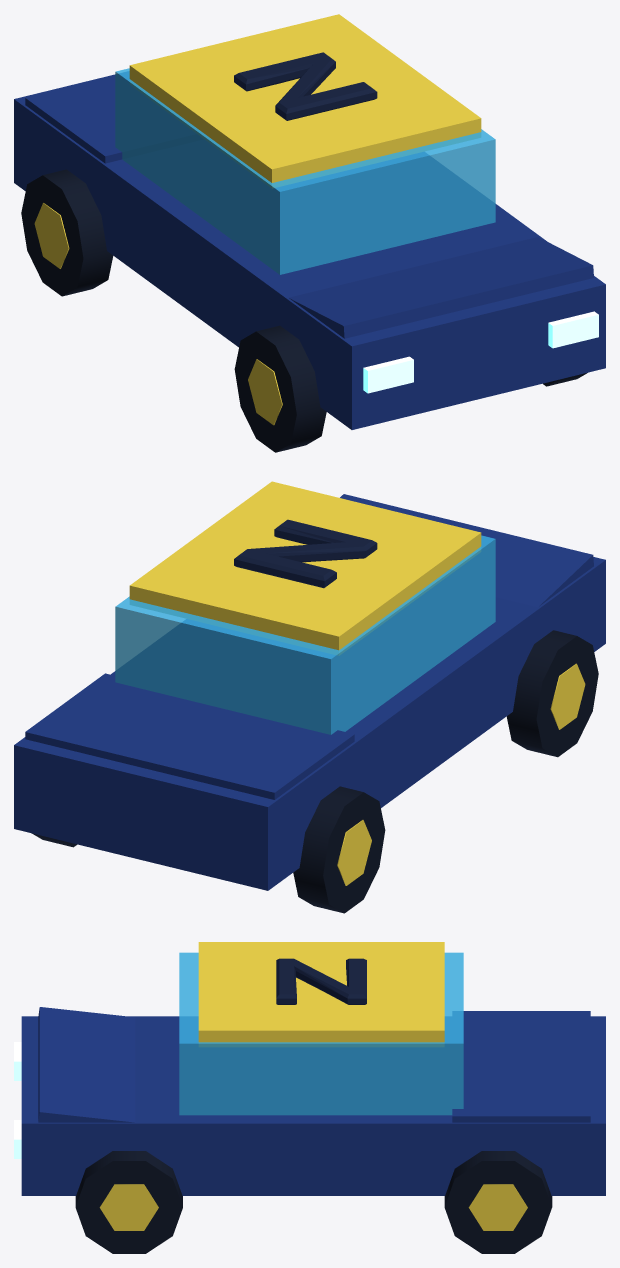
File: zaldi-sedan-lowpoly.glb
3 views of the same model, one above another, from view 1: azimuth 30°, elevation 25°; view 2: azimuth 150°, elevation 25°; view 3: azimuth 270°, elevation 25° (orthographic). The views are drawn at different scales.
Visible parts, largest first — view 1: Zaldi_LowPoly_Sedan; view 2: Zaldi_LowPoly_Sedan; view 3: Zaldi_LowPoly_Sedan.
Boxes of the visible parts, x1,y1,x2,y2 form: Zaldi_LowPoly_Sedan: (14, 14, 605, 452); Zaldi_LowPoly_Sedan: (14, 481, 605, 913); Zaldi_LowPoly_Sedan: (14, 942, 605, 1253).
Bounding box in the file's own units: 1.28 × 0.9954 × 2.5.
